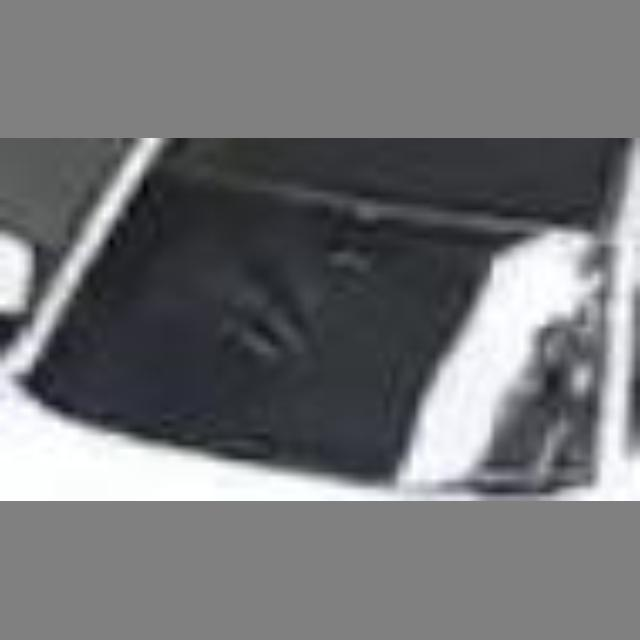pakai: (162, 212, 364, 374)
